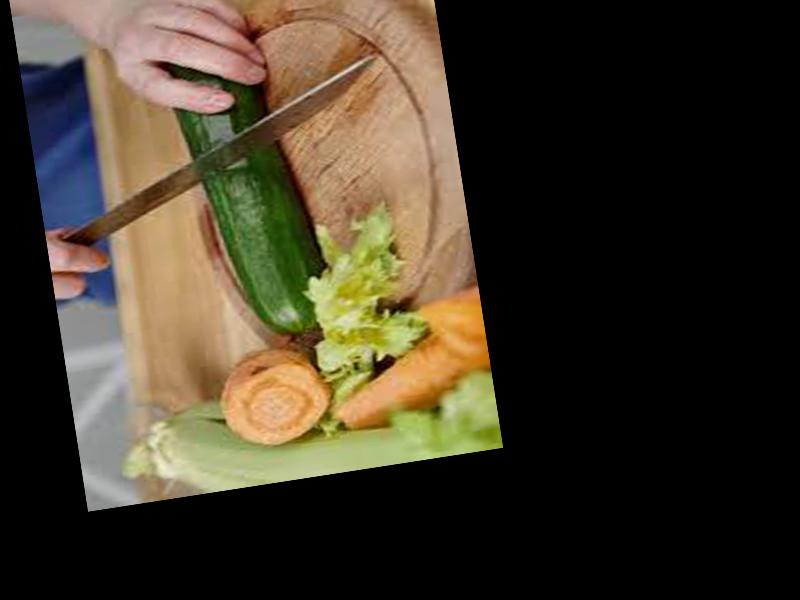Cucumber: (166, 45, 328, 349)
